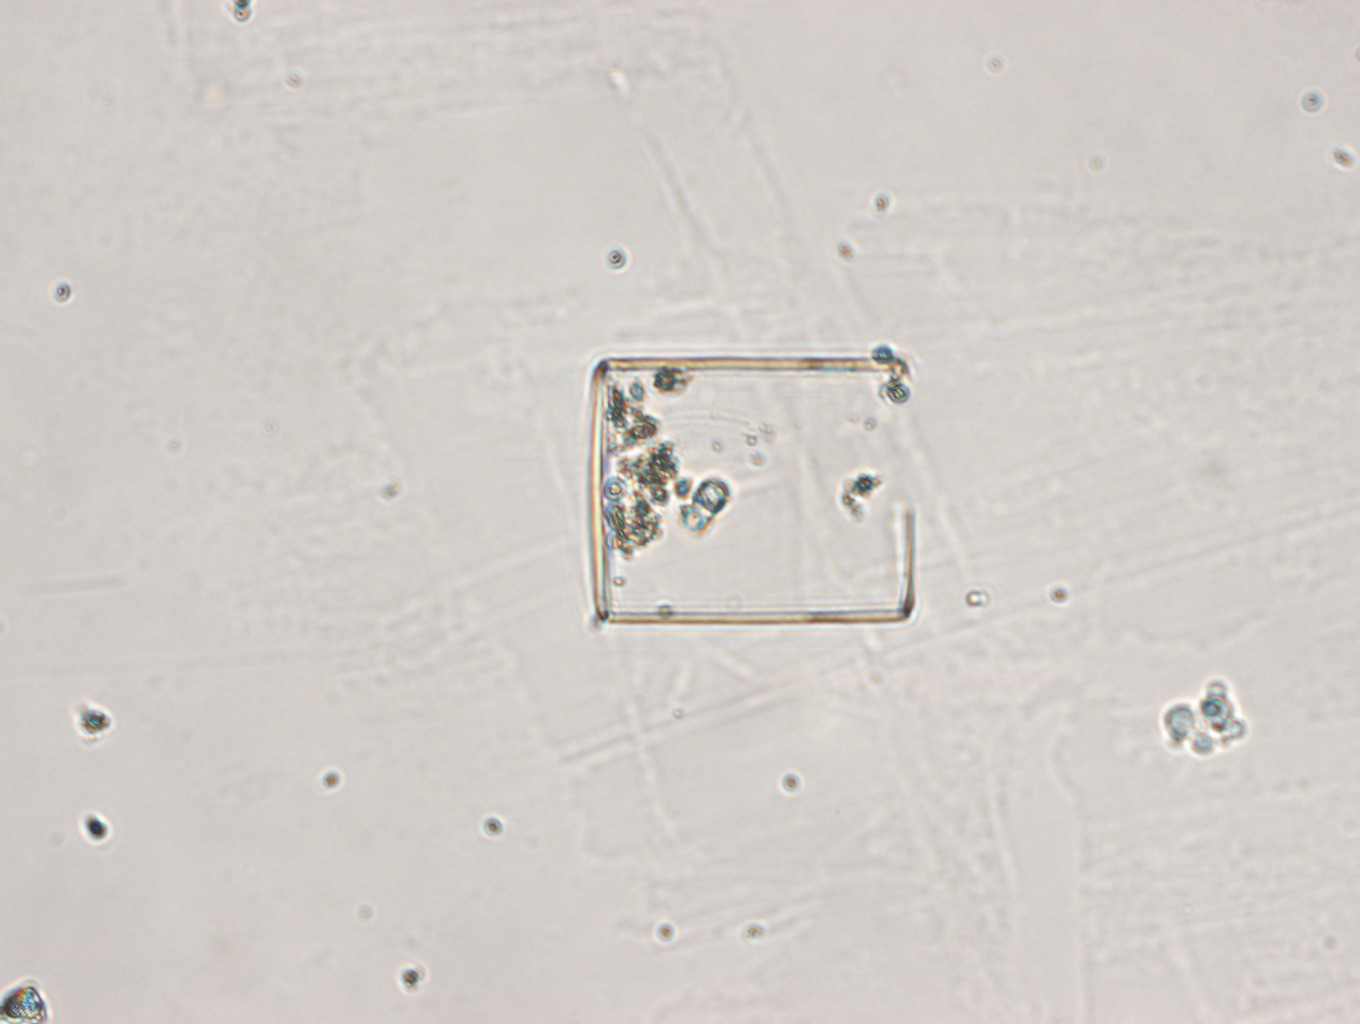guinardia flaccida: (582, 345, 920, 628)
